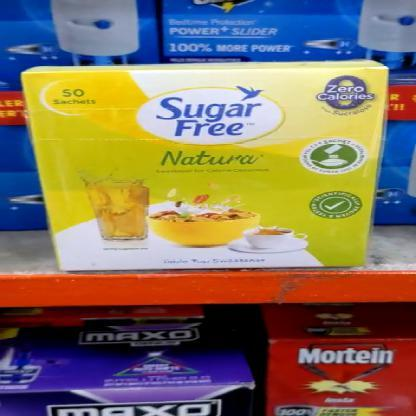SUGAR FREE NATURA SACHET 50: (21, 67, 384, 270)
